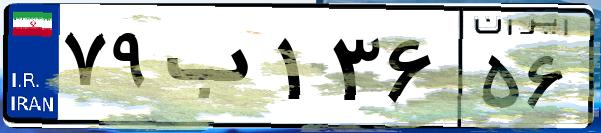1: (270, 28, 330, 110)
3: (330, 28, 385, 110)
5: (475, 38, 525, 113)
6: (385, 28, 445, 110), (525, 38, 570, 115)
7: (57, 26, 110, 100)
9: (110, 28, 158, 98)
ب: (158, 20, 270, 120)
